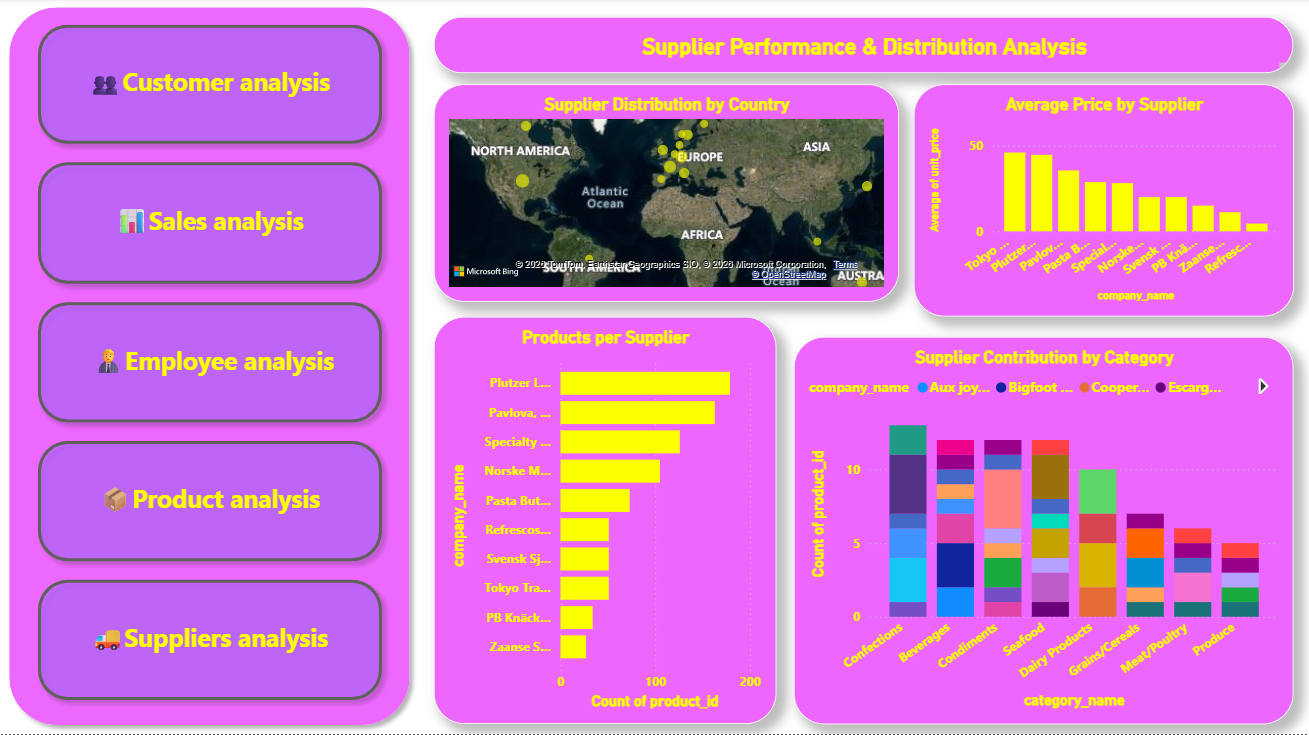

The dashboard page shown, as its layout file describes it:
{"tool":"powerbi","page":{"name":"Suppliers analysis","canvas":[1280,720],"ordinal":5},"visuals":[{"type":"shape","box":[0,0,409.6,720.2],"z":0},{"type":"actionButton","box":[28.1,151.6,354.6,137],"z":1000},{"type":"actionButton","box":[28.1,288.6,354.6,135.7],"z":2000},{"type":"actionButton","box":[28.1,560.1,354.6,135.7],"z":3000},{"type":"actionButton","box":[28.1,424.3,354.6,135.7],"z":4000},{"type":"actionButton","box":[28.1,17.1,354.6,134.5],"z":5000},{"type":"textbox","box":[75.8,45.2,258,78.3],"z":6000},{"type":"textbox","box":[75.8,181,258,78.3],"z":7000},{"type":"textbox","box":[75.8,317.9,258,78.3],"z":8000},{"type":"textbox","box":[75.8,453.7,258,78.3],"z":9000},{"type":"textbox","box":[75.8,589.4,258,78.3],"z":10000},{"type":"textbox","title":"Supplier Performance & Distribution Analysis","box":[424,17.8,841.2,54.9],"z":11000},{"type":"barChart","title":"Products per Supplier","fields":{"Y":["CountNonNull(order_details.product_id)"],"Category":["suppliers.company_name"]},"box":[424.3,311.8,335.1,398.6],"z":12000},{"type":"columnChart","title":"Average Price by Supplier","fields":{"Category":["suppliers.company_name"],"Y":["Avg(products.unit_price)"]},"box":[893.9,84.4,371.7,227.4],"z":13000},{"type":"map","title":"Supplier Distribution by Country","fields":{"Size":["CountNonNull(suppliers.supplier_id)"],"Category":["suppliers.country"]},"box":[424.3,84.4,454.9,212.8],"z":14000},{"type":"columnChart","title":"Supplier Contribution by Category","fields":{"Category":["categories.category_name"],"Series":["suppliers.company_name"],"Y":["CountNonNull(products.product_id)"]},"box":[776.5,331.4,489.1,379.1],"z":15000}]}

Visuals, with their boxes in screenshot pixels (x1, y1, x2, y2), scaled from the page's 1280x720 canvas onto the 1309x735 screenshot:
shape: 0 0 419 734
actionButton: 29 155 391 295
actionButton: 29 295 391 433
actionButton: 29 572 391 710
actionButton: 29 433 391 572
actionButton: 29 17 391 155
textbox: 78 46 341 126
textbox: 78 185 341 265
textbox: 78 325 341 404
textbox: 78 463 341 543
textbox: 78 602 341 682
"Supplier Performance & Distribution Analysis" textbox: 434 18 1294 74
"Products per Supplier" barChart: 434 318 777 725
"Average Price by Supplier" columnChart: 914 86 1294 318
"Supplier Distribution by Country" map: 434 86 899 303
"Supplier Contribution by Category" columnChart: 794 338 1294 725
